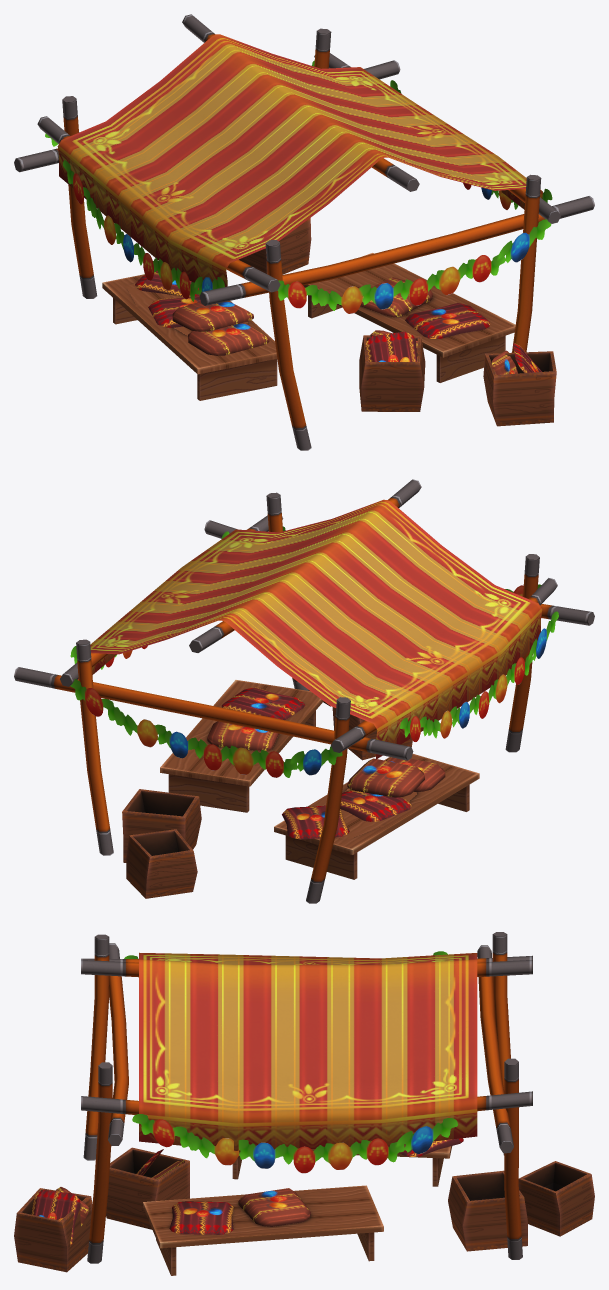
The model's file is Market_01_Deco.FBX.
3 renders of one model, top to bottom at view 1: azimuth 30°, elevation 25°; view 2: azimuth 150°, elevation 25°; view 3: azimuth 270°, elevation 25°, orthographic. The views are drawn at different scales.
Parts seen in each view (by area): view 1: Market_01_Deco; view 2: Market_01_Deco; view 3: Market_01_Deco.
Boxes of the visible parts, x1,y1,x2,y2 form: Market_01_Deco: [14, 14, 594, 450]; Market_01_Deco: [14, 479, 594, 903]; Market_01_Deco: [14, 932, 594, 1275].
Size of the model in its own units: 1.53 by 0.9269 by 1.96.
